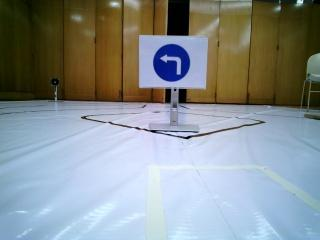left: (146, 37, 200, 84)
